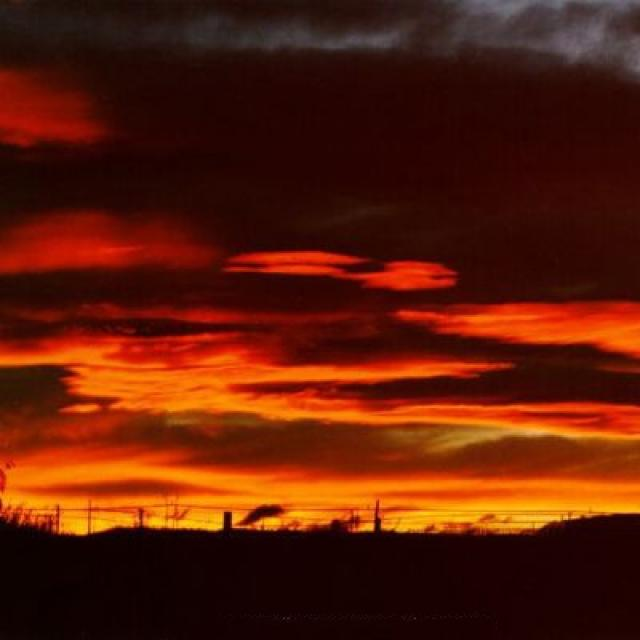As: (1, 63, 640, 470)
